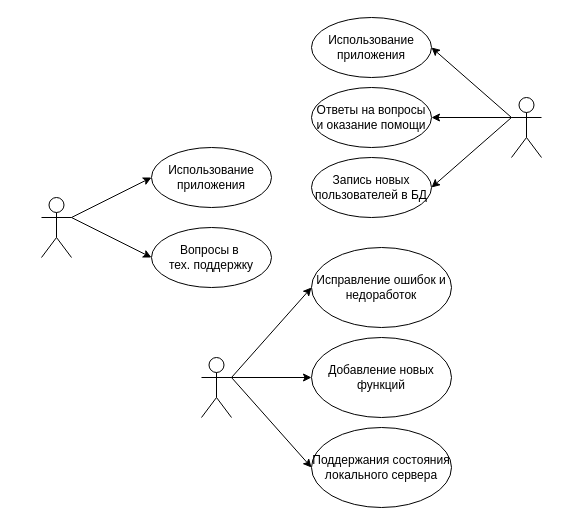
The diagram is 586 pixels wide and 525 high, and some of its shapes have lost their labels. Each missing label, with the centre of its shape:
"Пользователь" goes at (x=56, y=227).
"Разработчик" goes at (x=216, y=387).
"Тех. поддержка" goes at (x=526, y=127).
